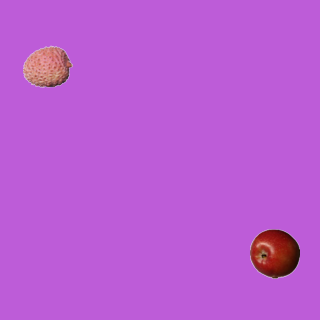Apple Braeburn: (249, 228, 299, 278)
Lychee: (22, 41, 72, 91)
